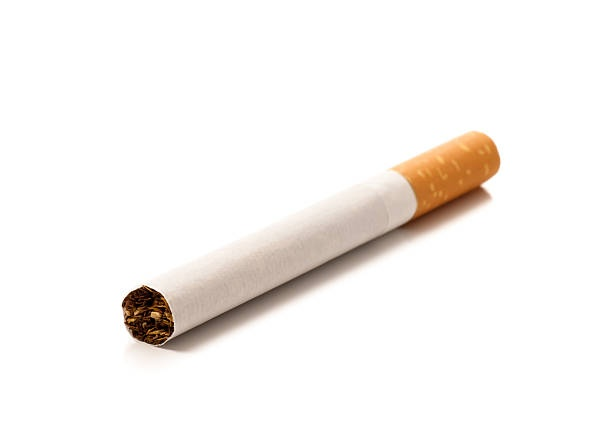sigaretta: (115, 123, 504, 348)
